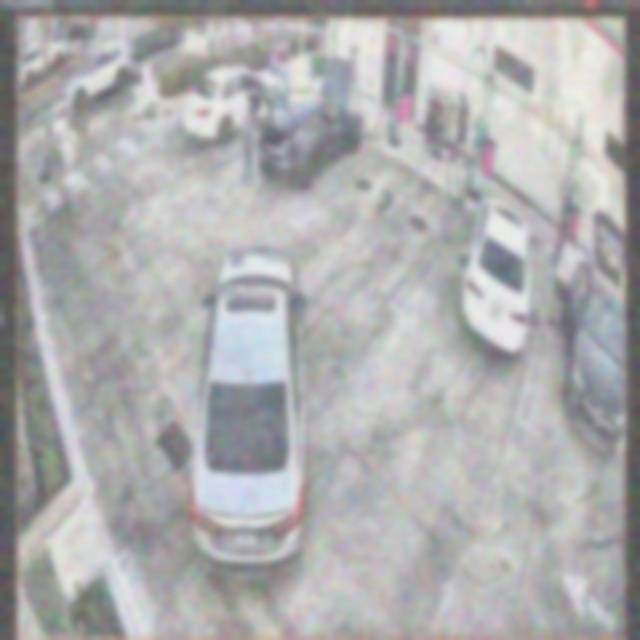Car: (189, 250, 308, 575), (259, 57, 362, 188), (462, 196, 535, 364), (184, 65, 288, 143)
